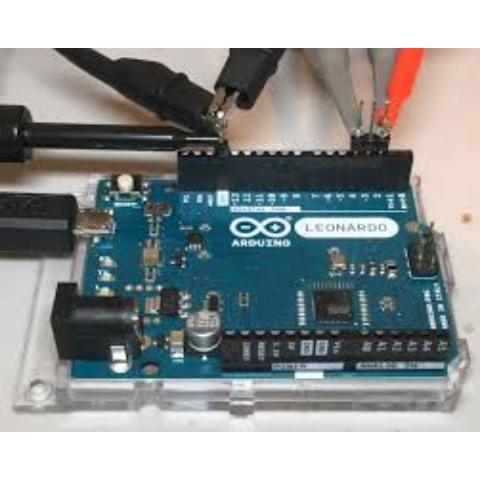Arduino-Leonardo: (46, 151, 468, 415)
